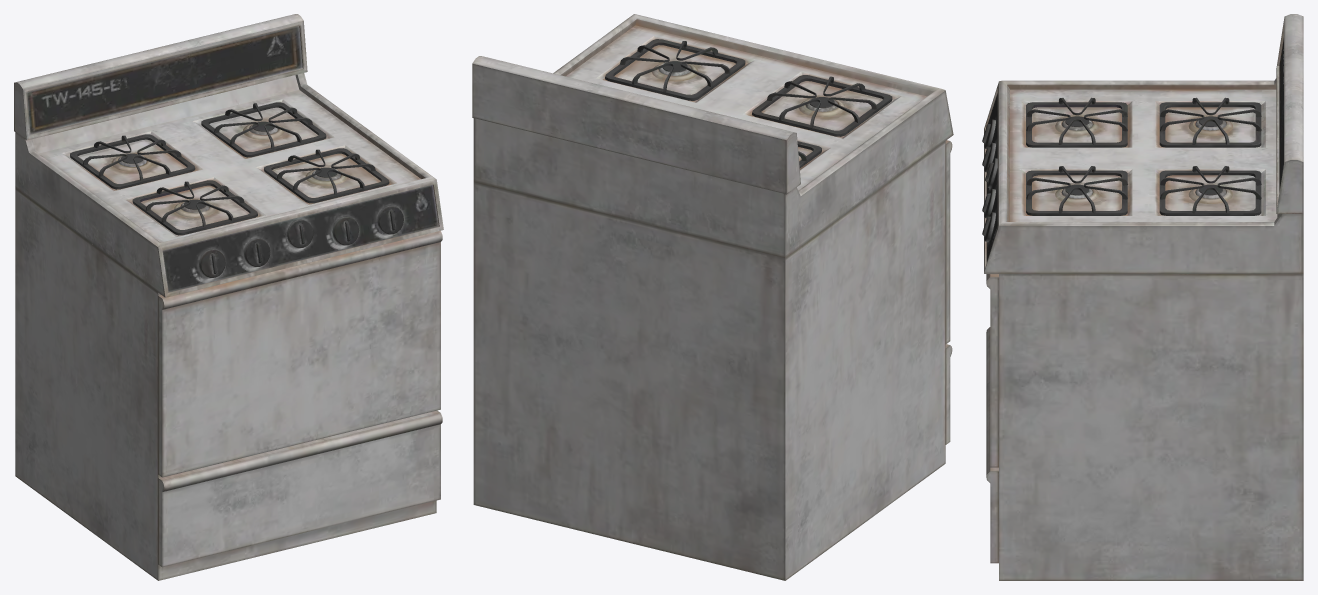
File: Stove.glb
3 renders of one model, left to right at view 1: azimuth 30°, elevation 25°; view 2: azimuth 150°, elevation 25°; view 3: azimuth 270°, elevation 25°, orthographic. The views are drawn at different scales.
Visible parts, largest first — view 1: GasStove_low.001_GasStove_0; view 2: GasStove_low.001_GasStove_0; view 3: GasStove_low.001_GasStove_0.
Boxes of the visible parts, box(x1,y1,x2,y2) form: GasStove_low.001_GasStove_0: box(14, 14, 443, 580); GasStove_low.001_GasStove_0: box(472, 14, 953, 580); GasStove_low.001_GasStove_0: box(982, 14, 1303, 580).
Size of the model in its own units: 79.17 by 107 by 73.74.
1 material, 1 textured.
